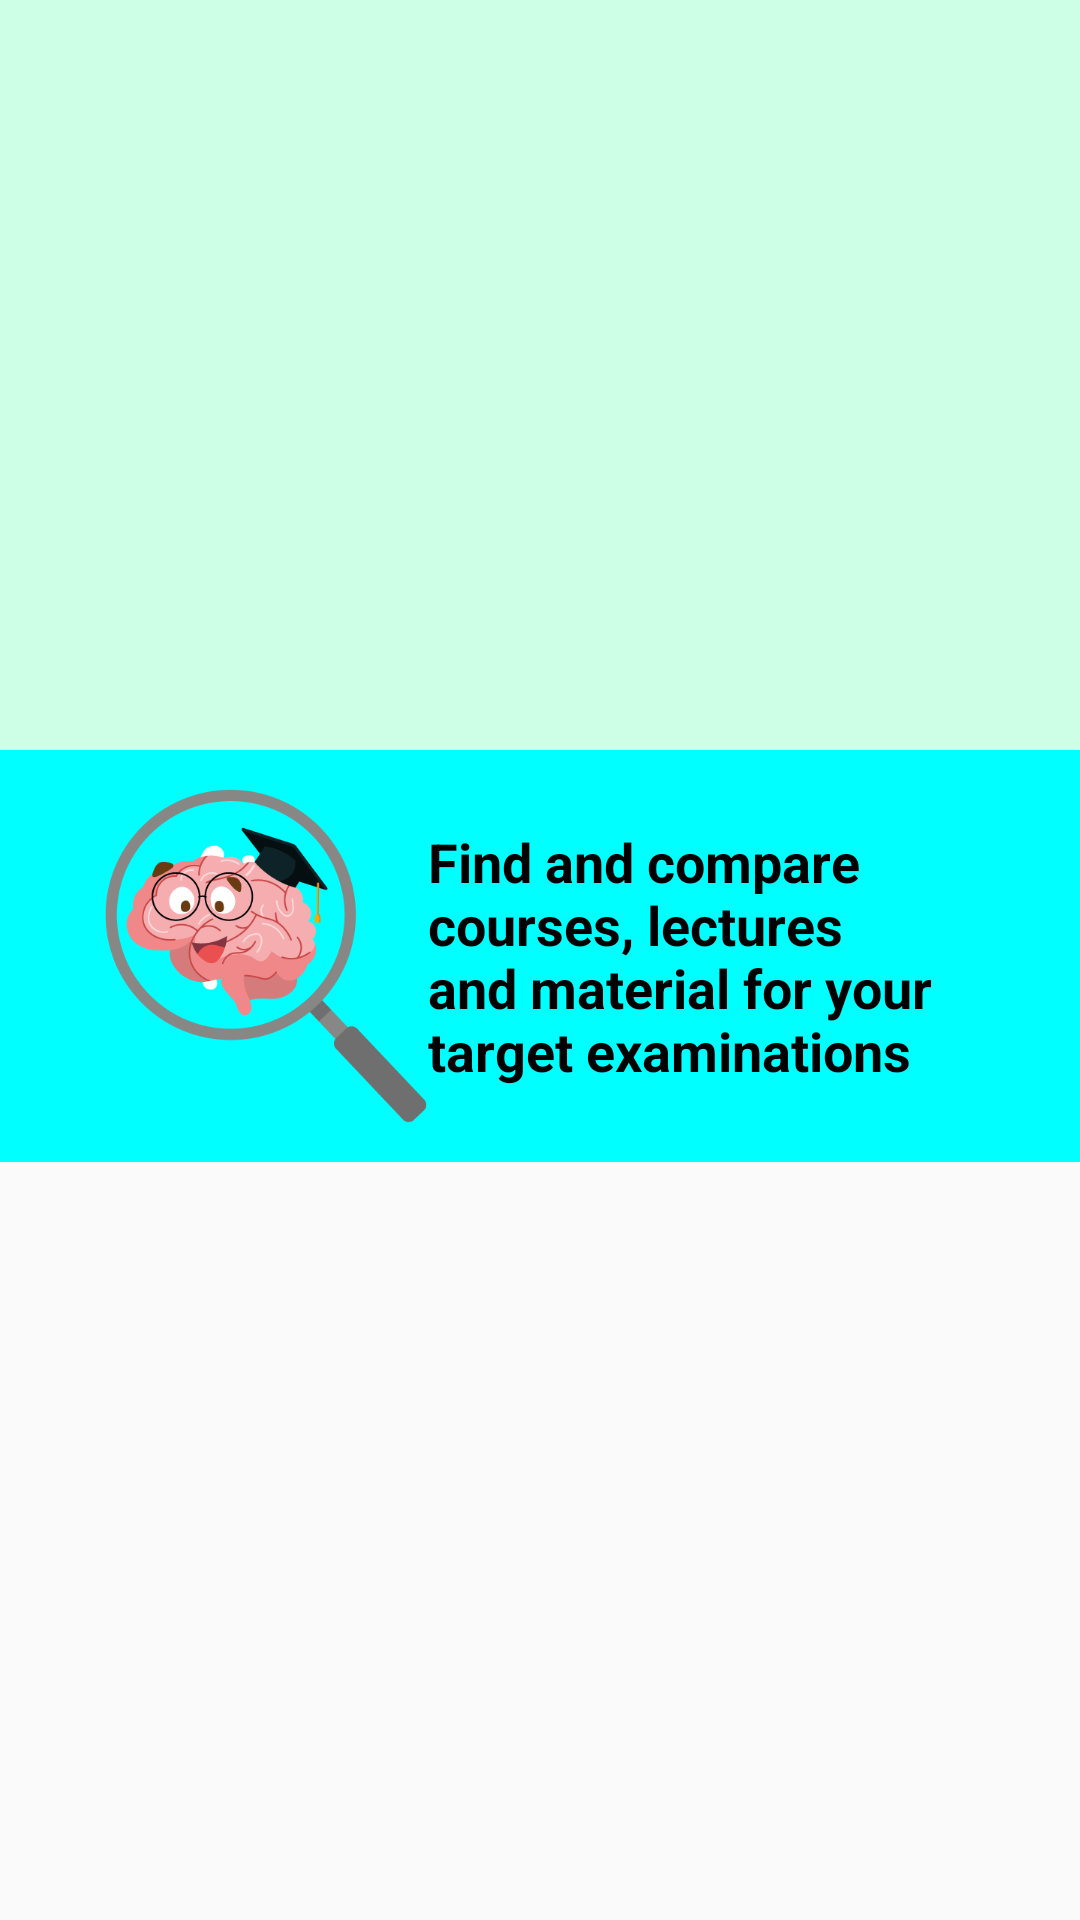

Named icons in this screenshot (1080x1920) and their bounding boxes, bbox=(x1, y1, x2, y2):
brain: bbox=(105, 790, 457, 1122)
